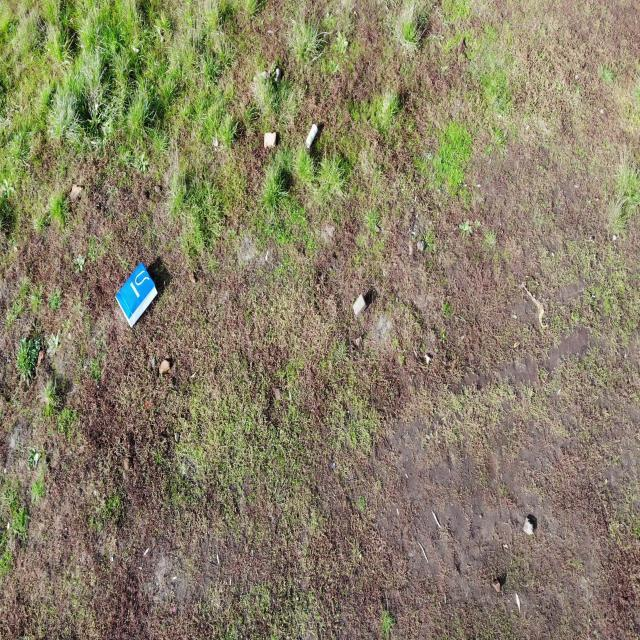rubbish: (115, 263, 158, 329), (304, 124, 320, 151)
